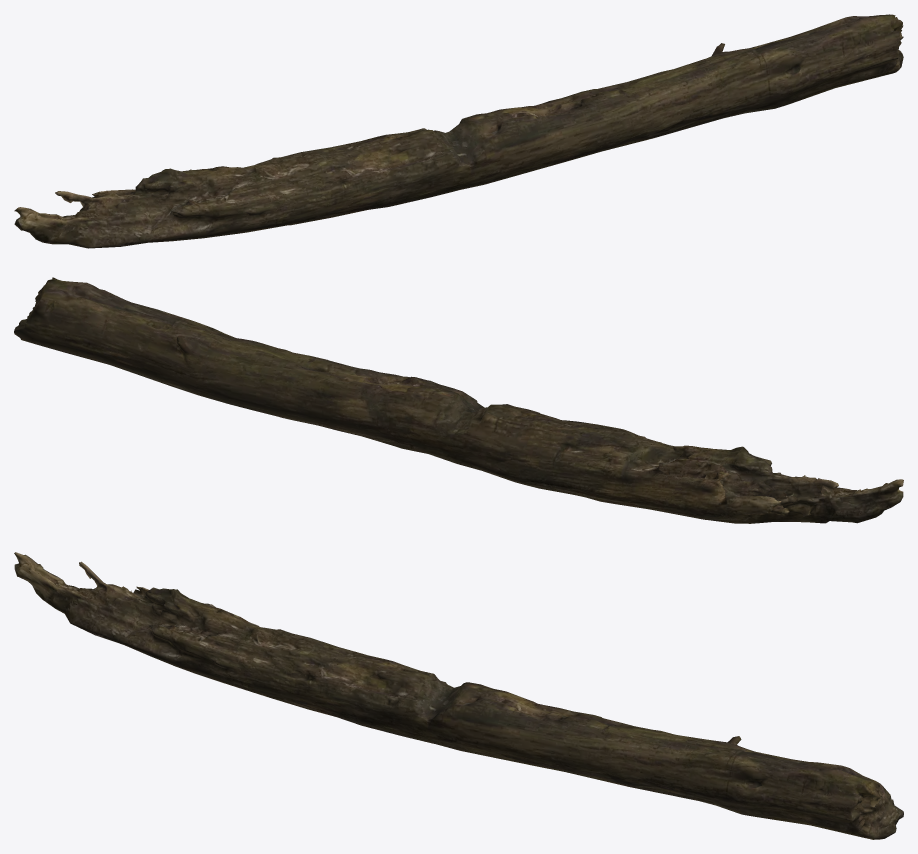
Rendered from dead_tree_trunk.glb.
The picture shows the model from 3 angles, top to bottom: view 1: azimuth 30°, elevation 25°; view 2: azimuth 150°, elevation 25°; view 3: azimuth 330°, elevation 25°; orthographic projection.
Visible parts, largest first — view 1: dead_tree_trunk; view 2: dead_tree_trunk; view 3: dead_tree_trunk.
Boxes of the visible parts, <box> form: dead_tree_trunk: <box>14,14,903,248</box>; dead_tree_trunk: <box>14,277,903,523</box>; dead_tree_trunk: <box>14,552,903,839</box>.
Size of the model in its own units: 3.05 by 0.2905 by 0.2771.
Materials: 1 (1 with a texture image).
